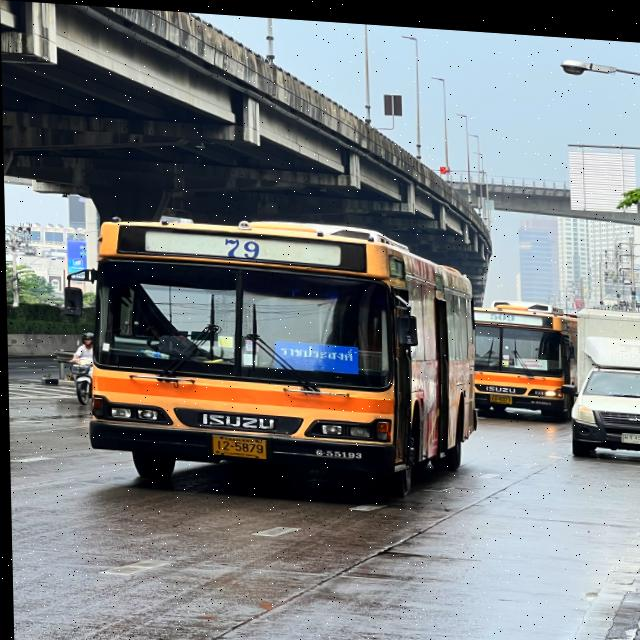BMTA-bus: (81, 208, 478, 504), (470, 294, 577, 418)
Bus-Line-Number: (214, 232, 265, 258), (487, 303, 515, 316)
Destination-Sign-Normal: (272, 335, 358, 369), (512, 351, 546, 363)
